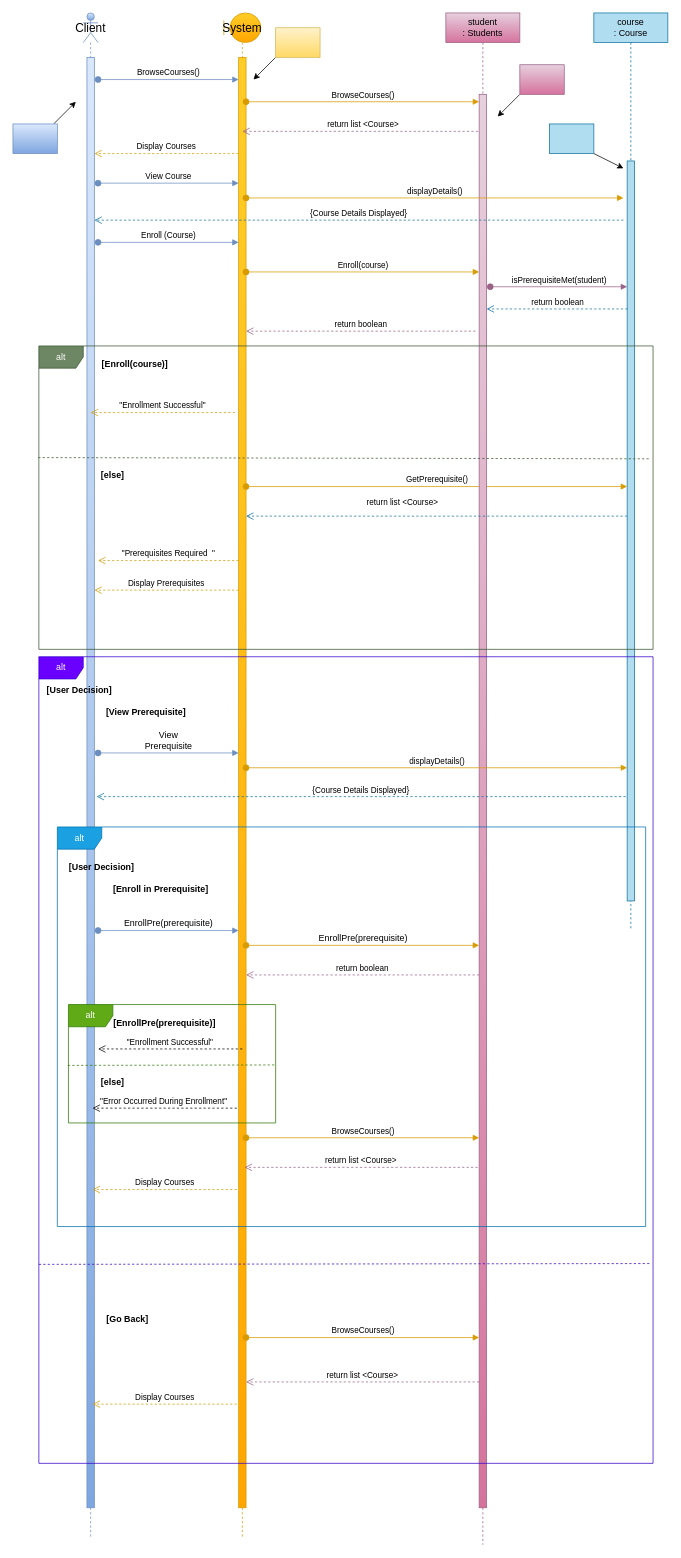
This 681x1558 diagram has some shape labels left out. The centre of each missing label's shape, as x and y in pixels:
"Client Activation Bar" goes at point 34,138.
"Course Activation Bar" goes at point 571,138.
"Student Activation Bar" goes at point 541,79.
"System Activation Bar" goes at point 297,42.
